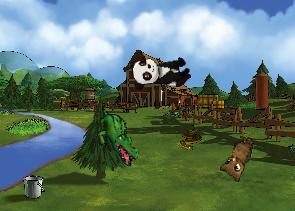crocodile: (82, 104, 151, 168)
owl: (217, 131, 254, 183)
panda: (129, 53, 192, 91)
